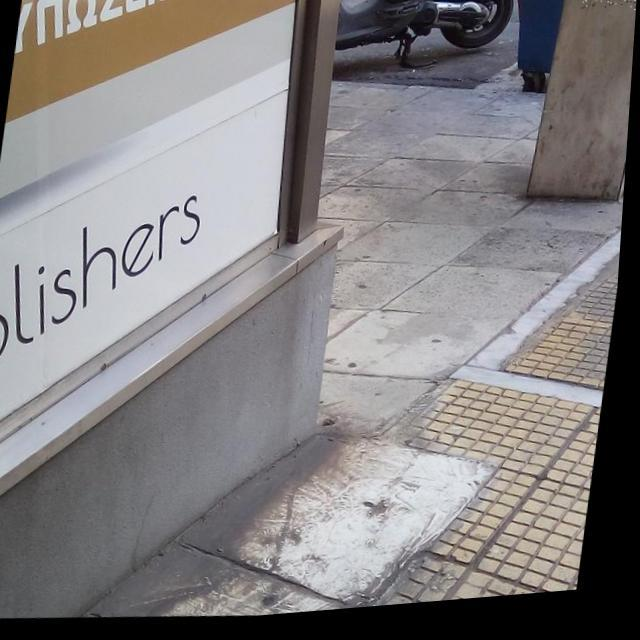-: (581, 0, 639, 26)
